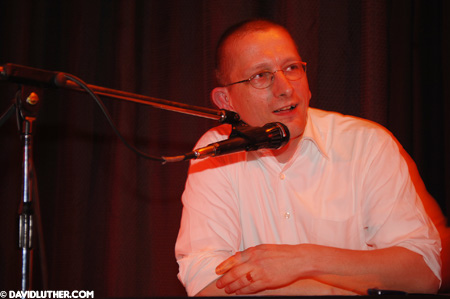person: (176, 18, 444, 299)
